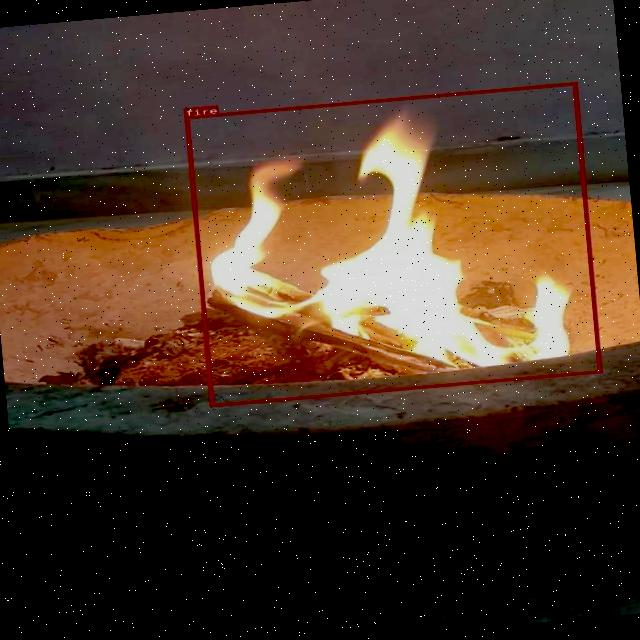fire: (184, 82, 601, 406)
